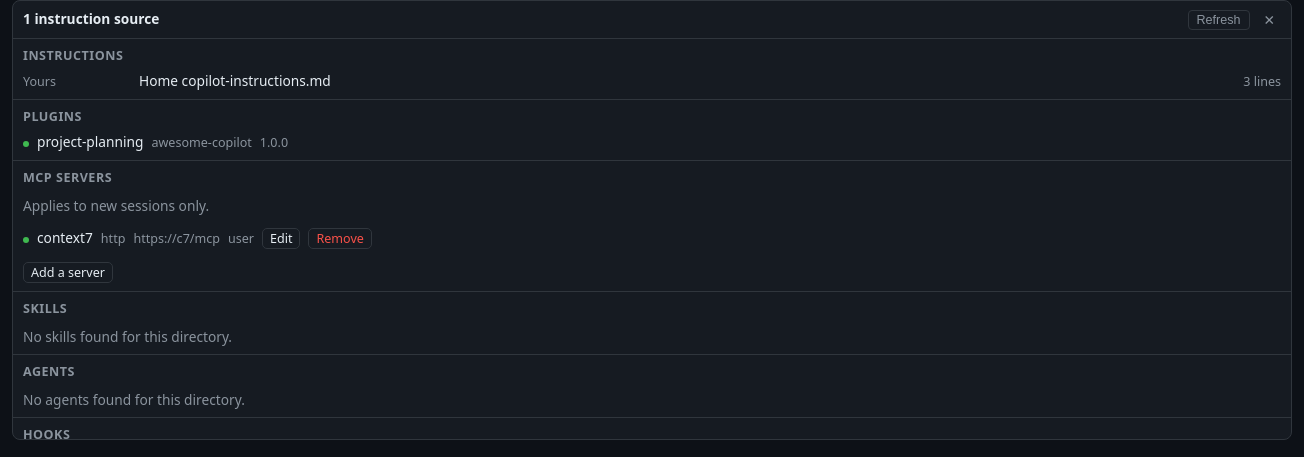
Test: Environment, editing MCP servers › the form › refuses a name that is already configured
The image size is (1304, 457).
Click the button "Add a server".
click(68, 272)  # box [23,262,113,283]
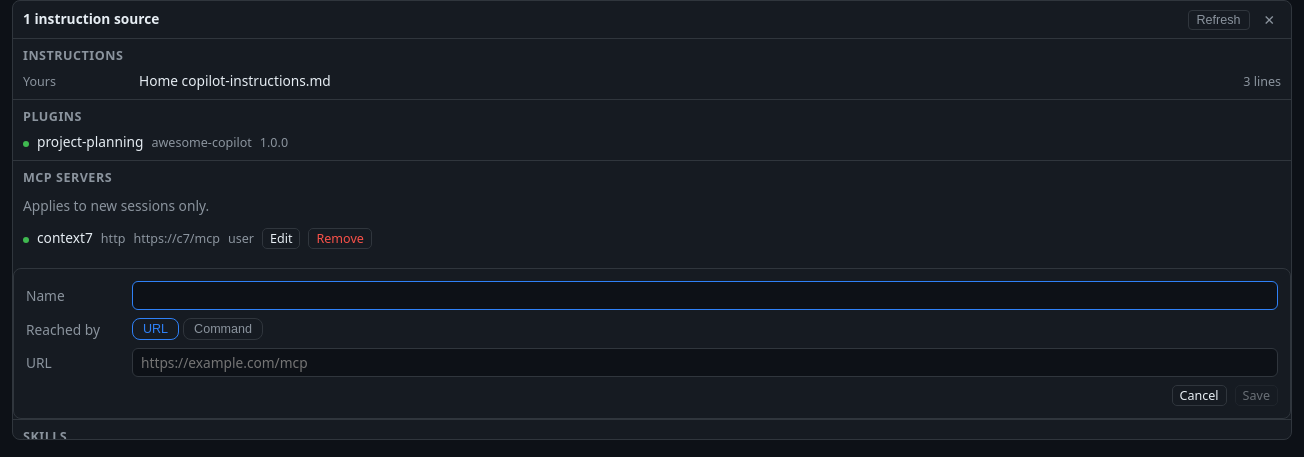
Type "context7" into the field labelled "Name".
click(705, 296); type("context7")  # box [132,281,1278,310]
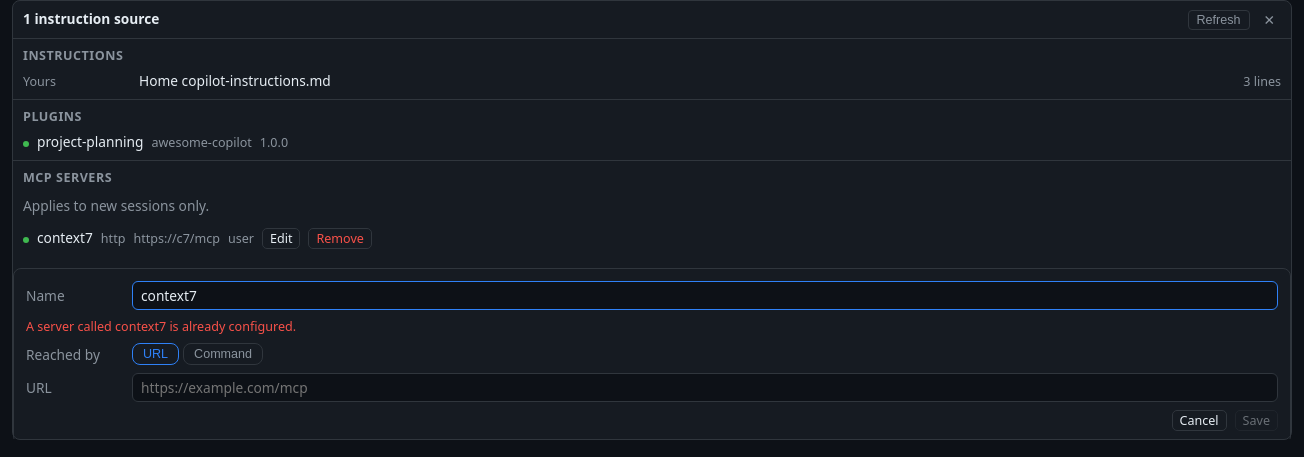
Now the button "Save" is disabled, box [1235,410,1278,431]
Now the text "A server called context7 is already configured." is shown, box [26,318,296,335]
